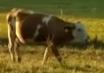cow: (7, 8, 90, 66)
